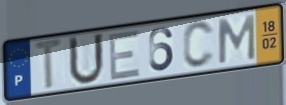6: (147, 27, 176, 74)
C: (181, 19, 216, 70)
E: (107, 27, 142, 82)
M: (216, 12, 257, 66)
T: (32, 37, 67, 93)
U: (67, 32, 107, 88)
